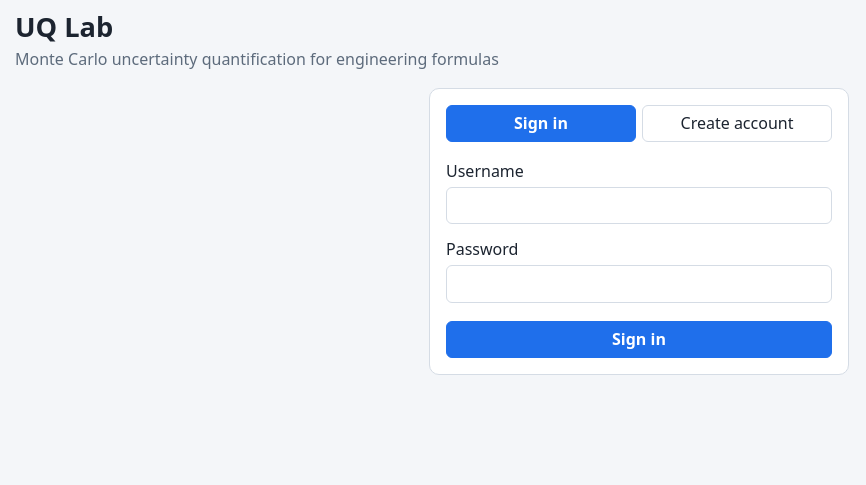
Test: sign in and out › reports a taken username from the server
Click the tab "Create account".
click(737, 123)  # box [642, 105, 832, 142]
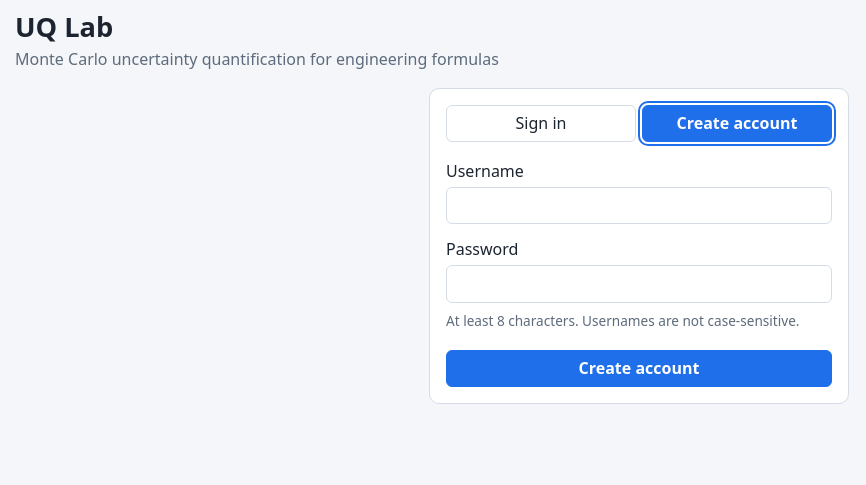
Type "alice" into the field labelled "Username".
click(639, 206); type("alice")  # box [446, 187, 832, 224]
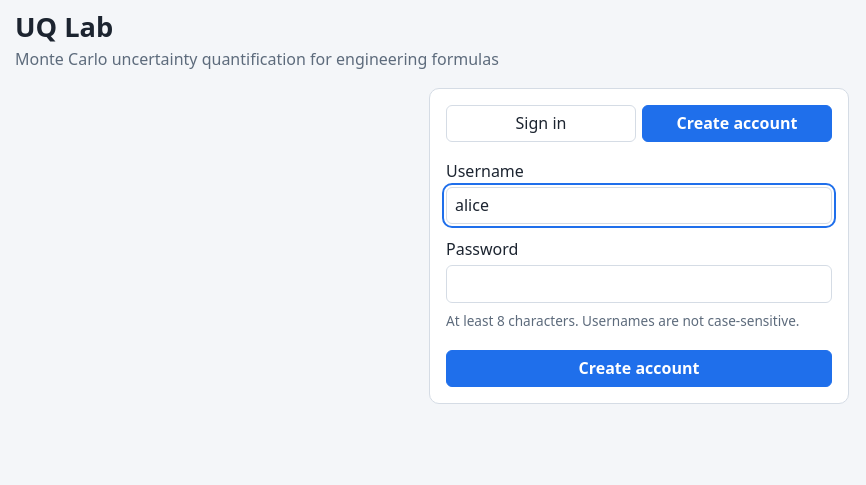
Type "goodpassword" into the password field labelled "Password".
click(639, 284); type("goodpassword")  # box [446, 265, 832, 303]
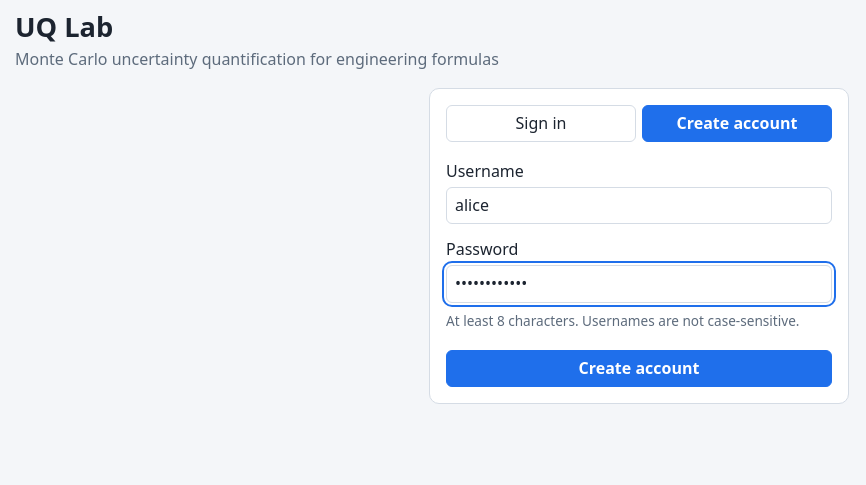
Click the submit button.
click(639, 369)  # box [446, 350, 832, 388]
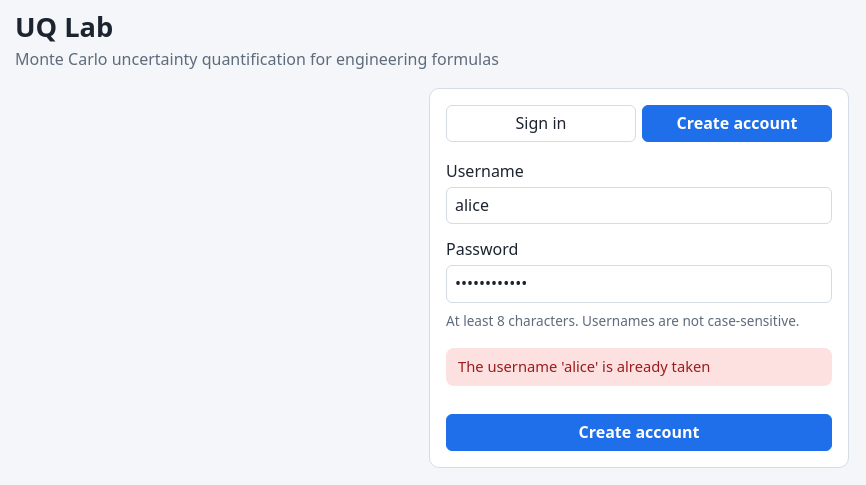
Expected: the message shows "already taken", [458, 356, 710, 376]
